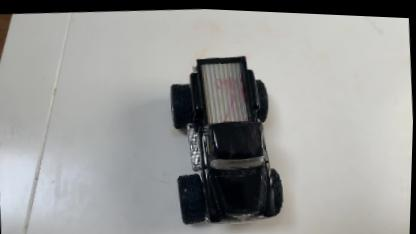black monster truck: (163, 48, 291, 229)
